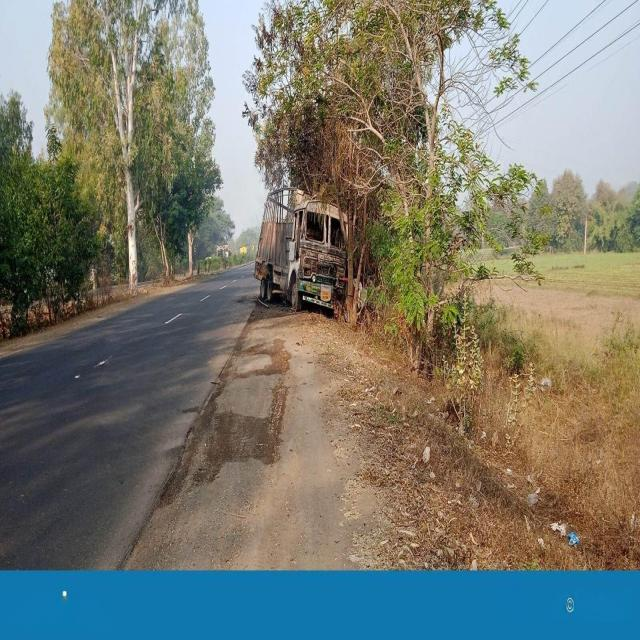accident: (254, 188, 348, 309)
